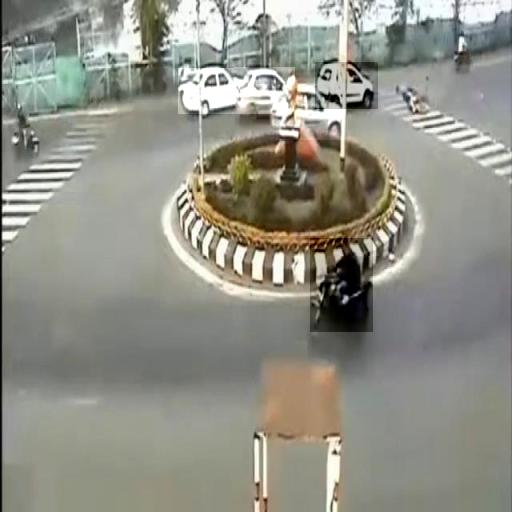小汽车: (276, 83, 346, 140), (315, 62, 378, 109), (234, 67, 295, 114), (178, 68, 239, 114)
自行车: (310, 238, 373, 332), (394, 84, 434, 116)
